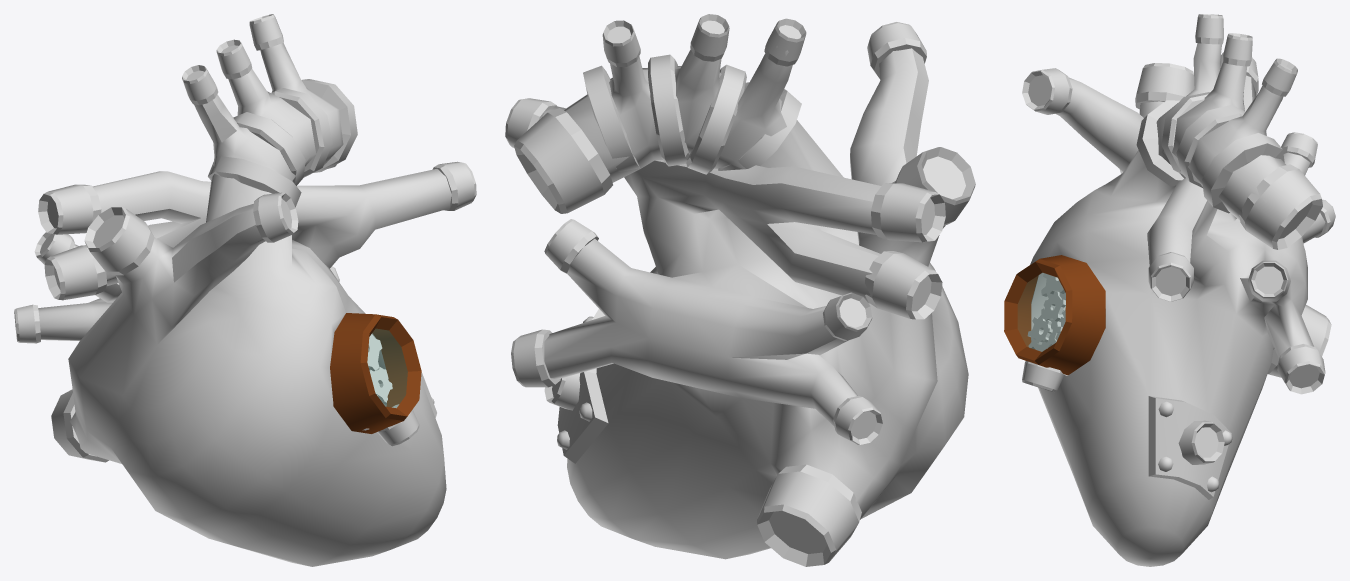
File: PunkHeart02.FBX
3 renders of one model, left to right at view 1: azimuth 30°, elevation 25°; view 2: azimuth 150°, elevation 25°; view 3: azimuth 270°, elevation 25°, orthographic. The views are drawn at different scales.
Parts seen in each view (by area): view 1: Heart, GearWindow, Connector013, Connector012, Connector011, Cylinder017, Connector01, Cylinder015, Cylinder016, Cylinder018, Connector016, Connector02 (+6 smaller); view 2: Heart, Connector016, Connector005, Connector012, Connector011, Connector013, Cylinder015, Cylinder016, plate, Cylinder018, Connector006, Connector015 (+9 smaller); view 3: Heart, GearWindow, Connector005, plate, Cylinder018, Connector013, Connector006, Connector01, Connector02, Cylinder017, Cylinder015, Connector03 (+10 smaller).
Part boxes in pixels (<box>): Heart: <box>38,42,451,566</box>; GearWindow: <box>330,313,421,433</box>; Connector013: <box>84,207,154,275</box>; Connector012: <box>44,245,107,300</box>; Connector011: <box>38,184,101,234</box>; Cylinder017: <box>208,156,301,207</box>; Connector01: <box>253,192,298,242</box>; Cylinder015: <box>271,88,332,177</box>; Cylinder016: <box>233,112,305,185</box>; Cylinder018: <box>301,79,357,172</box>; Connector016: <box>51,389,108,462</box>; Connector02: <box>432,161,476,210</box>; Heart: <box>543,46,968,559</box>; Connector016: <box>757,464,861,566</box>; Connector005: <box>514,108,612,213</box>; Connector012: <box>865,251,942,319</box>; Connector011: <box>871,183,945,242</box>; Connector013: <box>895,147,975,225</box>; Cylinder015: <box>648,54,689,166</box>; Cylinder016: <box>686,64,746,174</box>; plate: <box>557,309,608,463</box>; Cylinder018: <box>583,65,639,171</box>; Connector006: <box>511,329,560,387</box>; Connector015: <box>833,396,882,444</box>; Heart: <box>1030,28,1325,566</box>; GearWindow: <box>1004,255,1105,375</box>; Connector005: <box>1239,164,1322,249</box>; plate: <box>1148,396,1231,499</box>; Cylinder018: <box>1202,133,1284,213</box>; Connector013: <box>1135,63,1194,109</box>; Connector006: <box>1277,344,1325,394</box>; Connector01: <box>1022,68,1072,114</box>; Connector02: <box>1148,252,1193,301</box>; Cylinder017: <box>1136,100,1183,186</box>; Cylinder015: <box>1176,105,1245,187</box>; Connector03: <box>1178,420,1224,464</box>.
Size of the model in its own units: 109 by 134 by 84.08.
